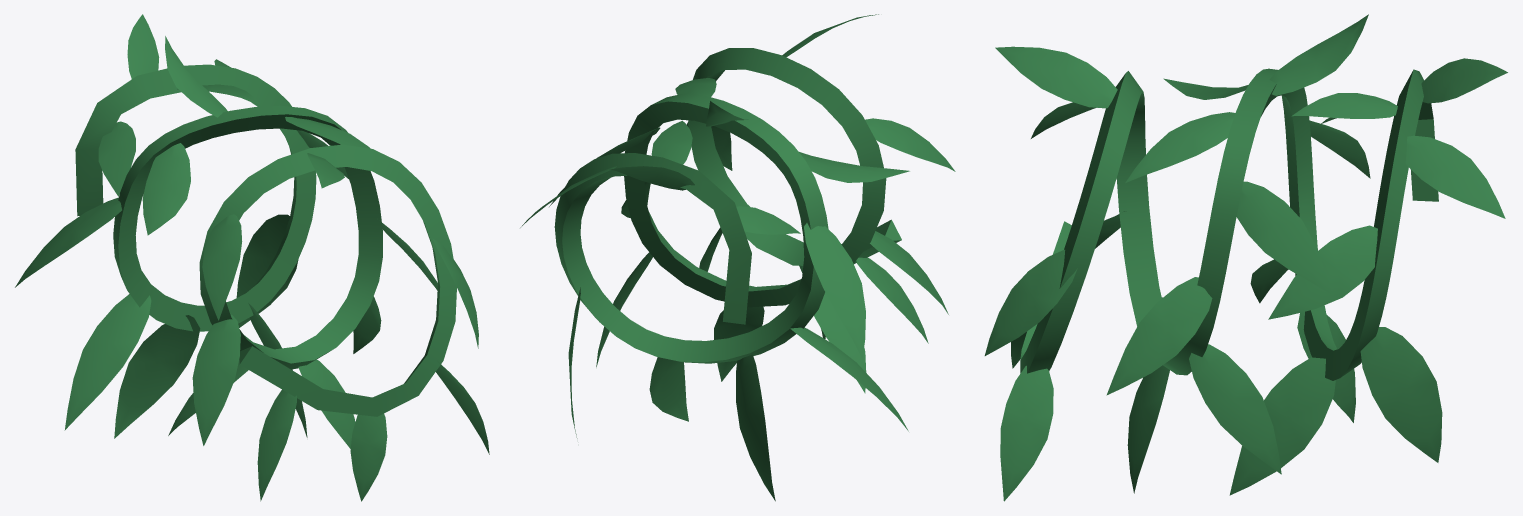
File: vine_J_scanden.fbx
The picture shows the model from 3 angles, left to right: view 1: azimuth 30°, elevation 25°; view 2: azimuth 150°, elevation 25°; view 3: azimuth 270°, elevation 25°; orthographic projection. The views are drawn at different scales.
Visible parts, largest first — view 1: vine_J_scanden_root, vine_J_scanden_A_leaf_A7, vine_J_scanden_A_leaf_A8, vine_J_scanden_A_leaf_A18, vine_J_scanden_A_leaf_A10, vine_J_scanden_A_leaf_A19, vine_J_scanden_A_leaf_A, vine_J_scanden_A_leaf_A23, vine_J_scanden_A_leaf_A24, vine_J_scanden_A_leaf_A9, vine_J_scanden_A_leaf_A4, vine_J_scanden_A_leaf_A11 (+9 smaller); view 2: vine_J_scanden_root, vine_J_scanden_A_leaf_A9, vine_J_scanden_A_leaf_A7, vine_J_scanden_A_leaf_A6, vine_J_scanden_A_leaf_A19, vine_J_scanden_A_leaf_A8, vine_J_scanden_A_leaf_A10, vine_J_scanden_A_leaf_A24, vine_J_scanden_A_leaf_A17, vine_J_scanden_A_leaf_A18, vine_J_scanden_A_leaf_A3, vine_J_scanden_A_leaf_A16 (+6 smaller); view 3: vine_J_scanden_root, vine_J_scanden_A_leaf_A, vine_J_scanden_A_leaf_A6, vine_J_scanden_A_leaf_A15, vine_J_scanden_A_leaf_A14, vine_J_scanden_A_leaf_A13, vine_J_scanden_A_leaf_A22, vine_J_scanden_A_leaf_A1, vine_J_scanden_A_leaf_A20, vine_J_scanden_A_leaf_A2, vine_J_scanden_A_leaf_A21, vine_J_scanden_A_leaf_A12 (+9 smaller).
Part boxes in pixels (left/top/right/bottom): vine_J_scanden_root: left=75, top=64, right=456, bottom=416; vine_J_scanden_A_leaf_A7: left=114, top=315, right=200, bottom=438; vine_J_scanden_A_leaf_A8: left=64, top=294, right=151, bottom=430; vine_J_scanden_A_leaf_A18: left=192, top=314, right=240, bottom=445; vine_J_scanden_A_leaf_A10: left=142, top=143, right=190, bottom=235; vine_J_scanden_A_leaf_A19: left=202, top=214, right=242, bottom=320; vine_J_scanden_A_leaf_A: left=236, top=214, right=298, bottom=327; vine_J_scanden_A_leaf_A23: left=350, top=413, right=387, bottom=501; vine_J_scanden_A_leaf_A24: left=257, top=389, right=296, bottom=501; vine_J_scanden_A_leaf_A9: left=15, top=197, right=121, bottom=287; vine_J_scanden_A_leaf_A4: left=98, top=121, right=135, bottom=196; vine_J_scanden_A_leaf_A11: left=165, top=36, right=227, bottom=117; vine_J_scanden_root: left=554, top=48, right=901, bottom=363; vine_J_scanden_A_leaf_A9: left=804, top=223, right=865, bottom=358; vine_J_scanden_A_leaf_A7: left=736, top=354, right=775, bottom=501; vine_J_scanden_A_leaf_A6: left=649, top=357, right=688, bottom=421; vine_J_scanden_A_leaf_A19: left=865, top=118, right=955, bottom=171; vine_J_scanden_A_leaf_A8: left=790, top=327, right=908, bottom=431; vine_J_scanden_A_leaf_A10: left=799, top=152, right=909, bottom=182; vine_J_scanden_A_leaf_A24: left=856, top=257, right=928, bottom=343; vine_J_scanden_A_leaf_A17: left=814, top=292, right=866, bottom=393; vine_J_scanden_A_leaf_A18: left=870, top=231, right=948, bottom=314; vine_J_scanden_A_leaf_A3: left=651, top=120, right=692, bottom=164; vine_J_scanden_A_leaf_A16: left=714, top=306, right=764, bottom=381; vine_J_scanden_root: left=1020, top=68, right=1438, bottom=380; vine_J_scanden_A_leaf_A: left=1360, top=327, right=1442, bottom=462; vine_J_scanden_A_leaf_A6: left=1229, top=357, right=1335, bottom=495; vine_J_scanden_A_leaf_A15: left=1189, top=344, right=1281, bottom=474; vine_J_scanden_A_leaf_A14: left=1106, top=277, right=1212, bottom=395; vine_J_scanden_A_leaf_A13: left=1236, top=181, right=1332, bottom=294; vine_J_scanden_A_leaf_A22: left=1000, top=365, right=1053, bottom=501; vine_J_scanden_A_leaf_A1: left=1268, top=225, right=1377, bottom=319; vine_J_scanden_A_leaf_A20: left=995, top=46, right=1117, bottom=108; vine_J_scanden_A_leaf_A2: left=1405, top=135, right=1505, bottom=218; vine_J_scanden_A_leaf_A21: left=984, top=249, right=1077, bottom=355; vine_J_scanden_A_leaf_A12: left=1125, top=112, right=1235, bottom=182.
Bounding box in the file's own units: 54.13 × 60.72 × 65.24.
